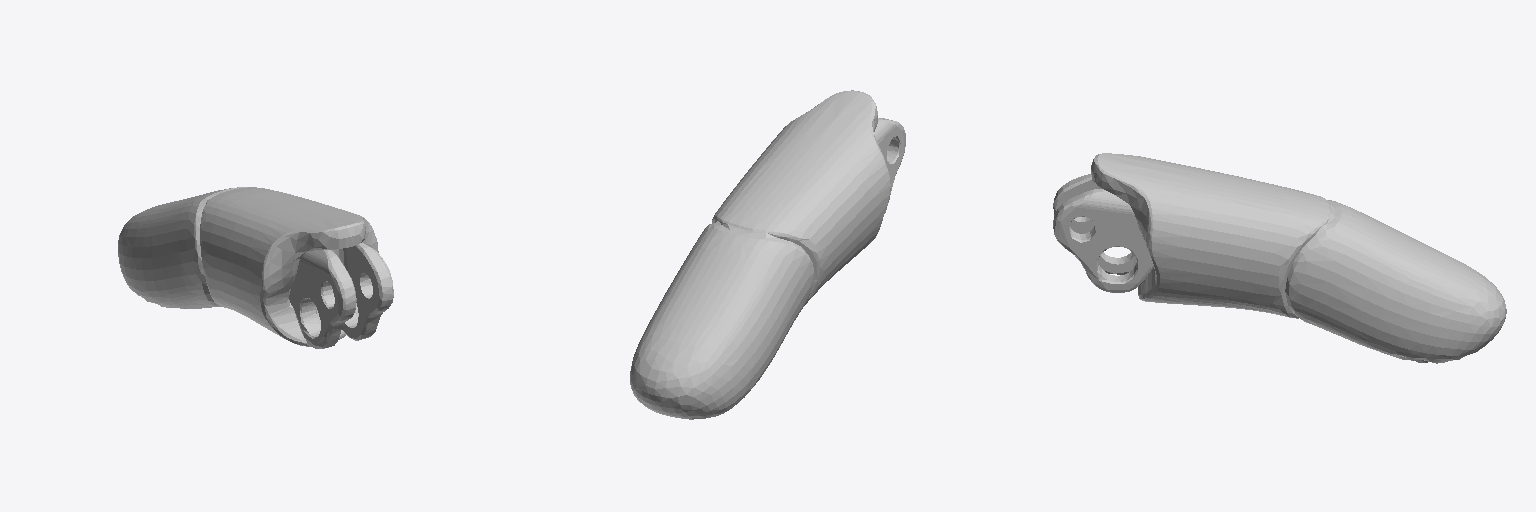
The model's file is L_middle_distal.obj.
The picture shows the model from 3 angles: view 1: azimuth 30°, elevation 25°; view 2: azimuth 150°, elevation 25°; view 3: azimuth 270°, elevation 25°; orthographic projection.
Parts seen in each view (by area): view 1: L_middle_distal; view 2: L_middle_distal; view 3: L_middle_distal.
Boxes of the visible parts, x1,y1,x2,y2 form: L_middle_distal: [118, 187, 393, 348]; L_middle_distal: [630, 90, 905, 419]; L_middle_distal: [1053, 153, 1506, 363].
Bounding box in the file's own units: 0.0152 × 0.0242 × 0.0511.